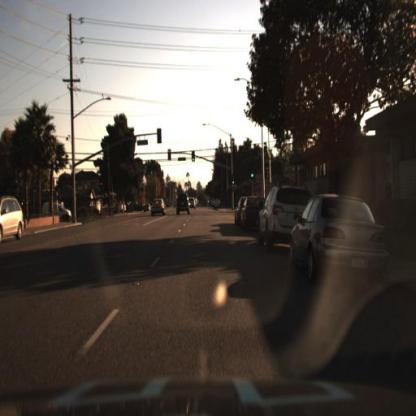car: (289, 194, 390, 290), (259, 183, 314, 249), (256, 181, 290, 260), (1, 196, 26, 247), (238, 196, 269, 233), (40, 200, 78, 228), (241, 193, 261, 236), (149, 195, 168, 221), (173, 192, 191, 217), (151, 195, 166, 218), (234, 197, 244, 230), (114, 199, 127, 217)
trafficLight-Green: (229, 173, 239, 191), (190, 150, 198, 166), (250, 161, 256, 181), (191, 153, 197, 165), (251, 172, 256, 183), (231, 179, 236, 189)
trafficLight-Red: (99, 180, 104, 192), (168, 149, 174, 159)
trafficLight-RedLeft: (167, 146, 175, 167), (99, 177, 105, 198)
